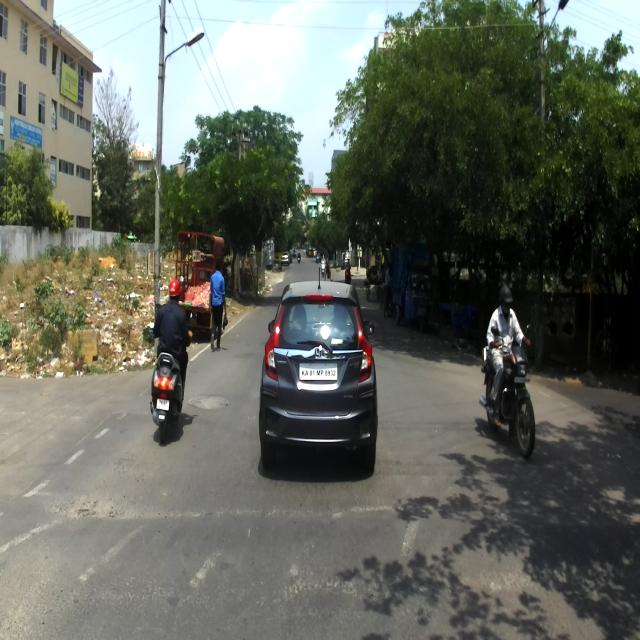car ahead at: (258, 277, 377, 477)
motorcycle ahead at: (483, 321, 537, 452), (151, 0, 170, 294), (150, 348, 193, 440)
